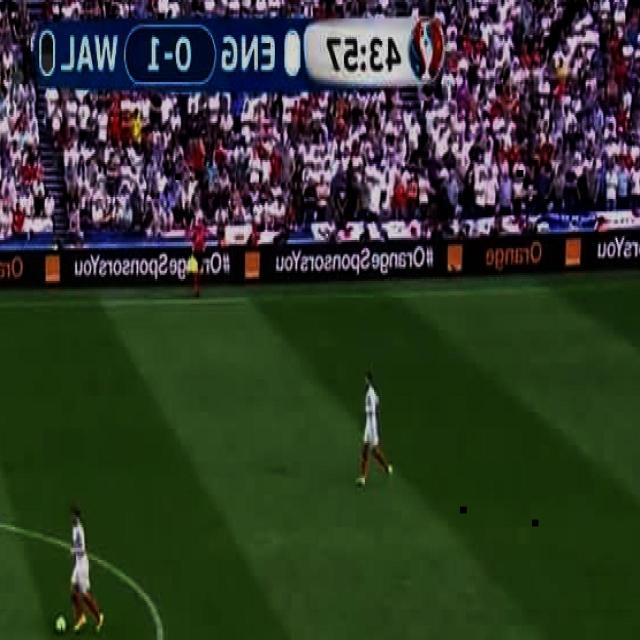ball: (54, 614, 66, 634)
player-white: (68, 503, 104, 635), (356, 371, 392, 489), (192, 219, 204, 299)
